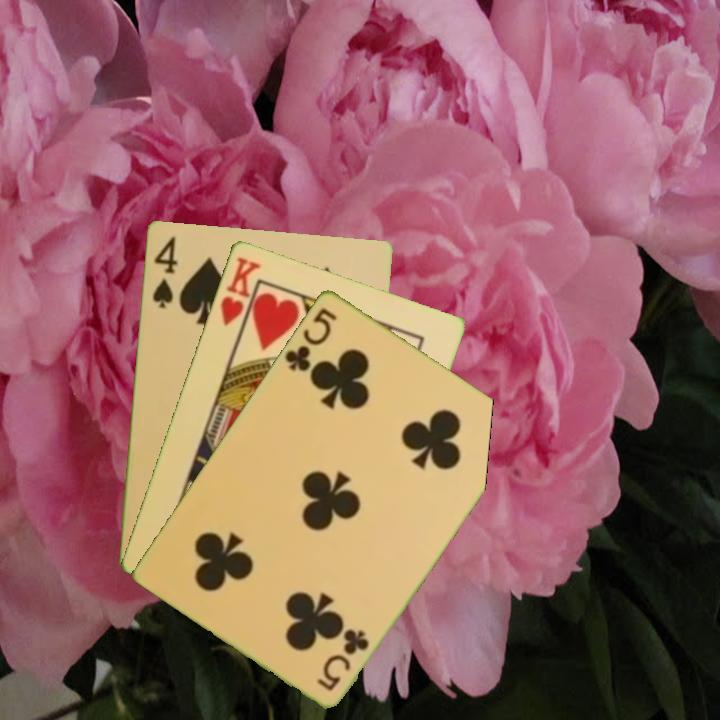4s: (148, 232, 180, 310)
5c: (281, 304, 340, 374), (313, 625, 373, 693)
Kh: (216, 253, 263, 338)
